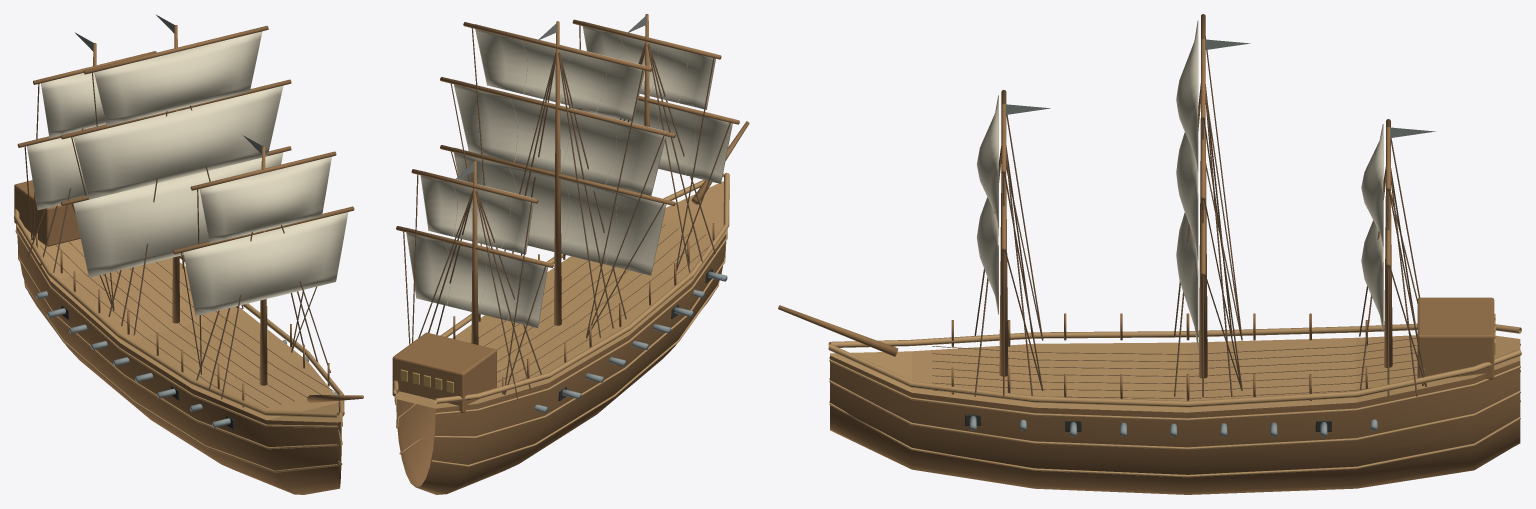
Rendered from sailing-warship.glb.
3 renders of one model, left to right at view 1: azimuth 30°, elevation 25°; view 2: azimuth 150°, elevation 25°; view 3: azimuth 270°, elevation 25°, orthographic. The views are drawn at different scales.
Visible parts, largest first — view 1: unit_root_geometry; view 2: unit_root_geometry; view 3: unit_root_geometry.
Boxes of the visible parts, x1=… form: unit_root_geometry: x1=14, y1=14, x2=363, y2=494; unit_root_geometry: x1=392, y1=14, x2=749, y2=494; unit_root_geometry: x1=778, y1=14, x2=1521, y2=494.
Size of the model in its own units: 2.94 by 4.86 by 7.27.
